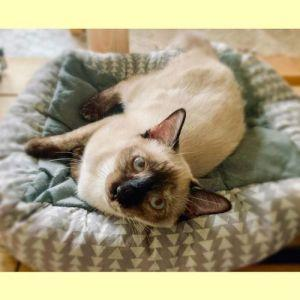siamese: (101, 102, 237, 239)
